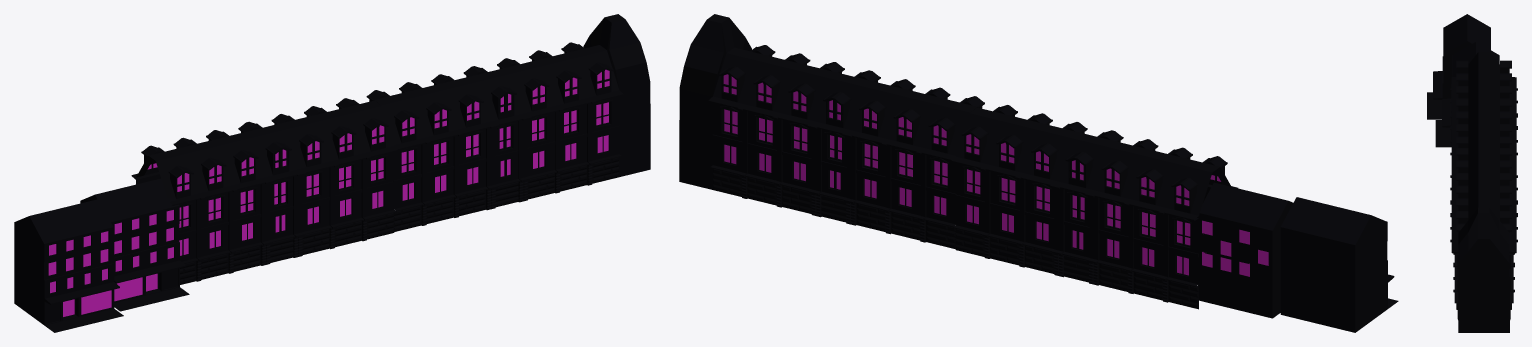
File: vausche.obj
3 renders of one model, left to right at view 1: azimuth 30°, elevation 25°; view 2: azimuth 150°, elevation 25°; view 3: azimuth 270°, elevation 25°, orthographic. The views are drawn at different scales.
Visible parts, largest first — view 1: Plane.001, Plane.033, Plane.185, Plane.186; view 2: Plane.001, Plane.033, Plane.185, Plane.186; view 3: Plane.001, Plane.033, Plane.185, Plane.186.
Boxes of the visible parts, x1,y1,x2,y2 form: Plane.001: (366,14,650,231); Plane.033: (131,98,398,284); Plane.185: (14,199,123,332); Plane.186: (80,178,189,311); Plane.001: (679,14,984,248); Plane.033: (951,105,1237,309); Plane.185: (1280,197,1398,332); Plane.186: (1198,182,1293,318); Plane.001: (1450,139,1517,332); Plane.033: (1450,52,1517,164); Plane.185: (1427,14,1490,119); Plane.186: (1435,42,1499,147).
Bounding box in the file's own units: 71.2 × 16.03 × 11.43.
